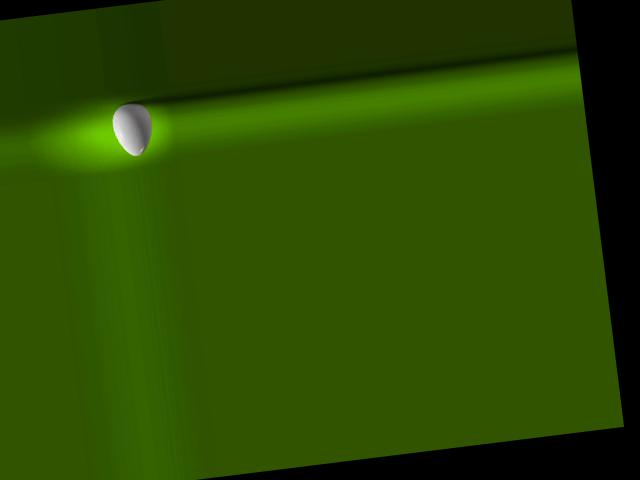egg: (110, 100, 155, 158)
